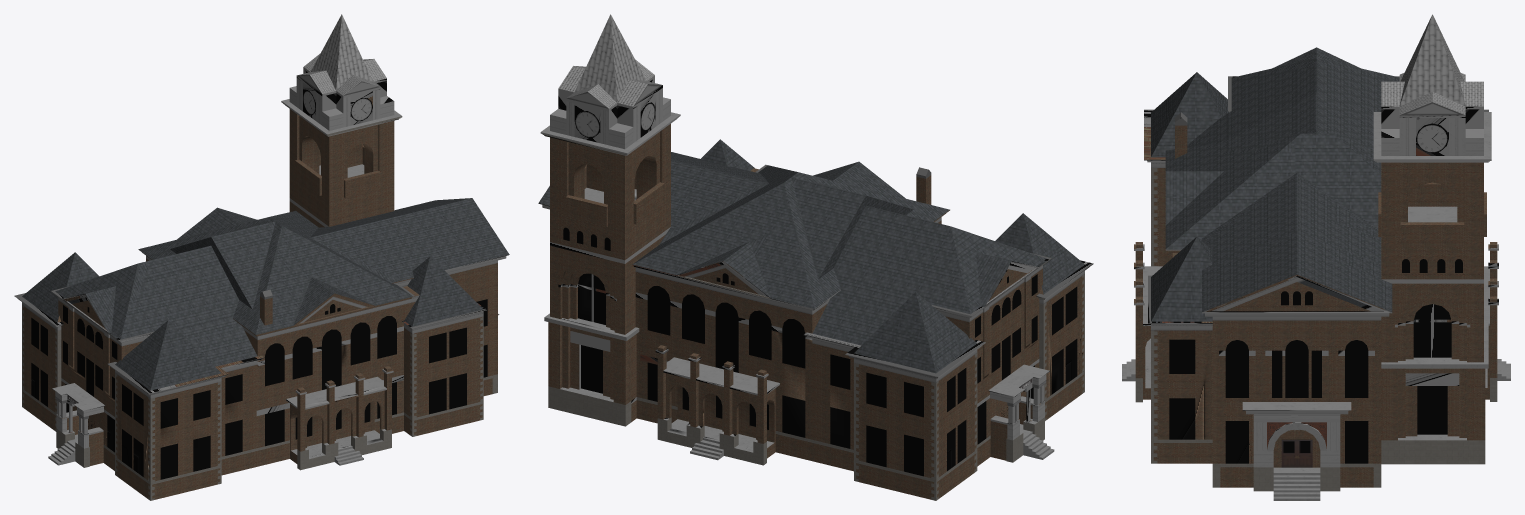
The picture shows the model from 3 angles, left to right: view 1: azimuth 30°, elevation 25°; view 2: azimuth 150°, elevation 25°; view 3: azimuth 270°, elevation 25°; orthographic projection. The views are drawn at different scales.
Visible parts, largest first — view 1: Hawkins_Library_Convert_23_1; view 2: Hawkins_Library_Convert_23_1; view 3: Hawkins_Library_Convert_23_1.
Part boxes in pixels (left/top/right/bottom): Hawkins_Library_Convert_23_1: left=14, top=14, right=509, bottom=500; Hawkins_Library_Convert_23_1: left=538, top=14, right=1093, bottom=500; Hawkins_Library_Convert_23_1: left=1122, top=14, right=1510, bottom=500.
Size of the model in its own units: 61.17 by 45.82 by 37.61.
